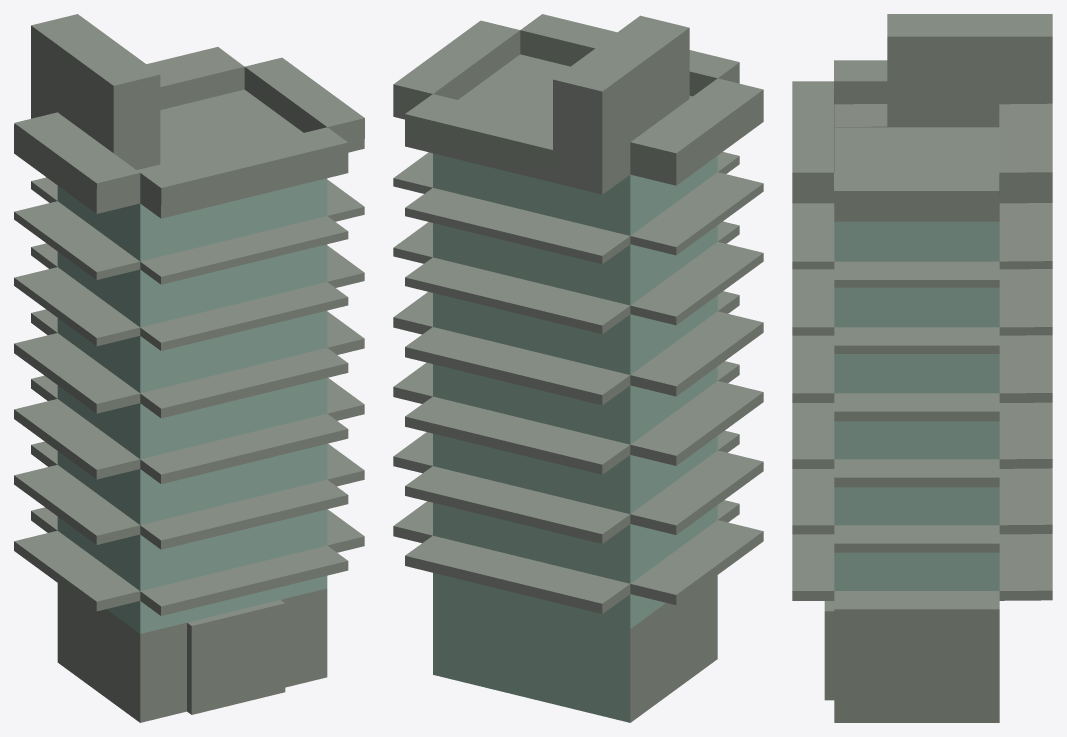
The picture shows the model from 3 angles, left to right: view 1: azimuth 30°, elevation 25°; view 2: azimuth 150°, elevation 25°; view 3: azimuth 270°, elevation 25°; orthographic projection. The views are drawn at different scales.
Visible parts, largest first — view 1: 立方体.005; view 2: 立方体.005; view 3: 立方体.005.
Part boxes in pixels (bbox=[...]): 立方体.005: bbox=[14, 14, 364, 722]; 立方体.005: bbox=[393, 14, 763, 722]; 立方体.005: bbox=[792, 14, 1052, 722].
Bounding box in the file's own units: 1639 × 3609 × 1379.
